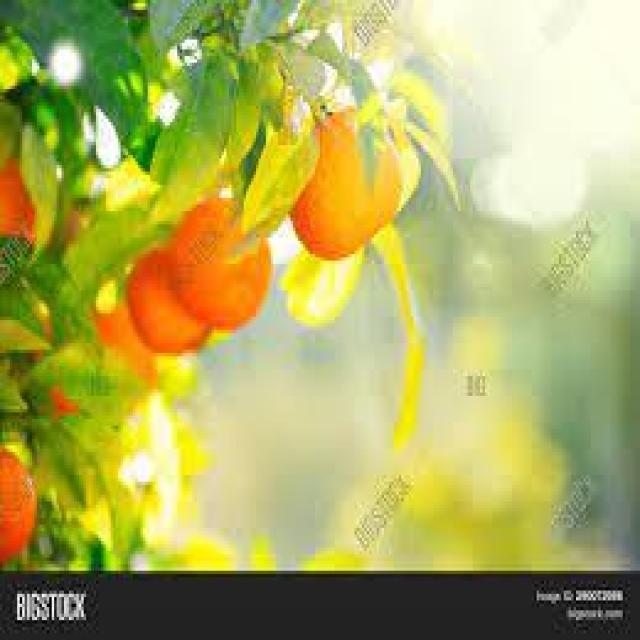fruit: (289, 98, 404, 265), (170, 198, 272, 328), (12, 285, 109, 419), (117, 230, 214, 360), (0, 153, 64, 280), (93, 296, 161, 387), (0, 442, 45, 566)
